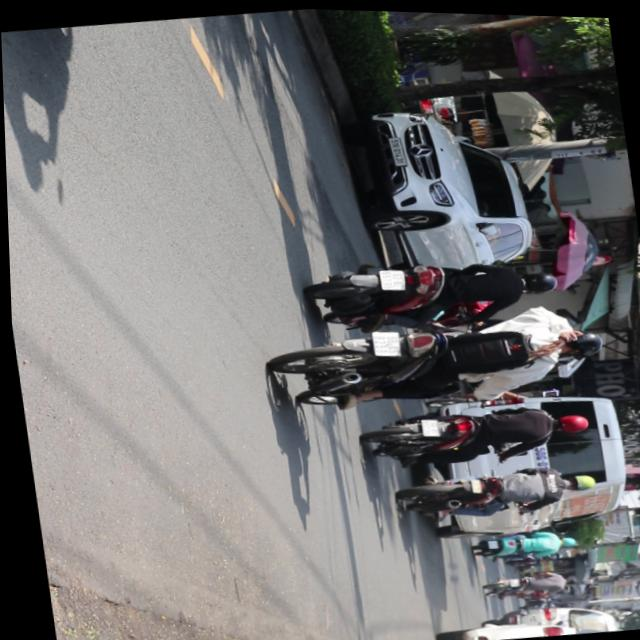helmet: (551, 322, 602, 356), (518, 265, 557, 291), (548, 407, 587, 432)
licenseplate: (259, 297, 616, 424), (300, 239, 562, 338), (355, 389, 591, 475)
nohelmet: (368, 326, 399, 356), (377, 265, 404, 288), (416, 415, 437, 434)
